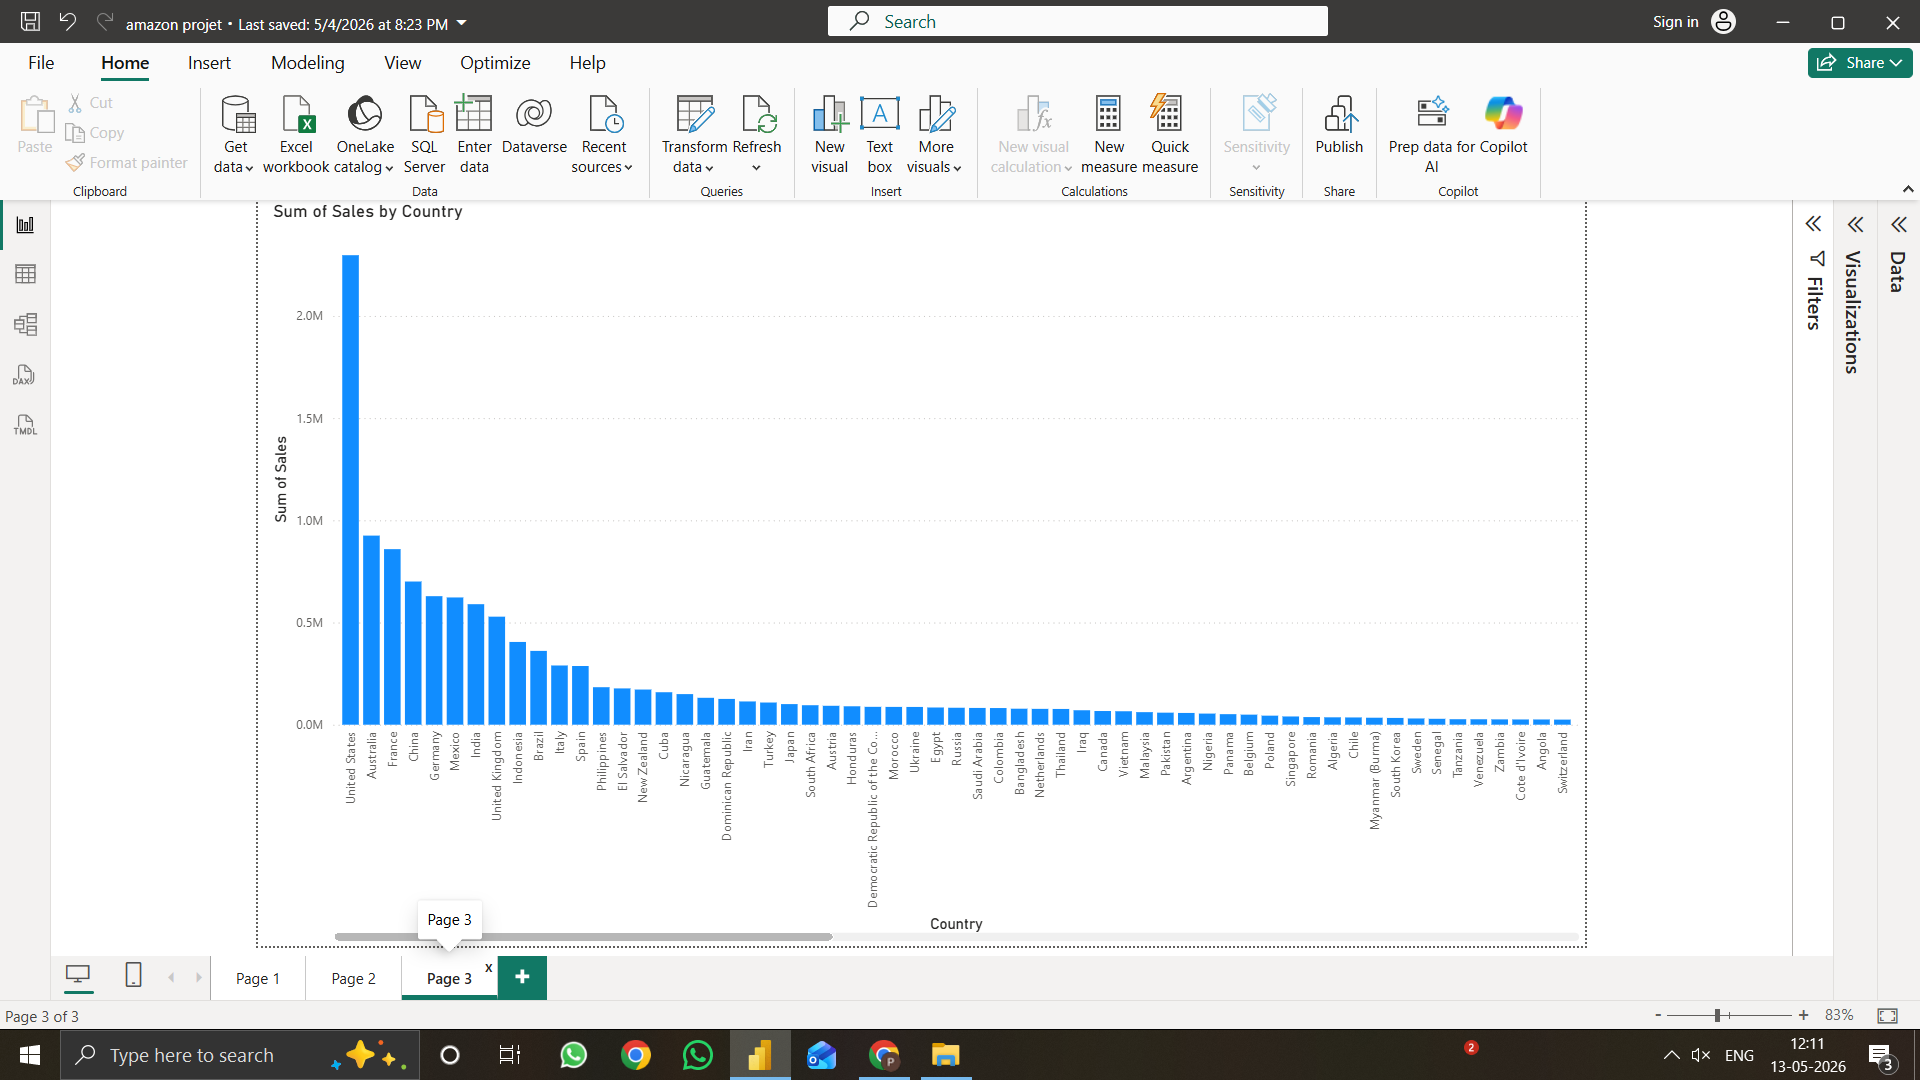

The page's visual inventory and layout, read from the dashboard file:
{"tool":"powerbi","page":{"name":"Page 3","canvas":[1280,720],"ordinal":2},"visuals":[{"type":"textbox","box":[9.6,0,279.9,46.7],"z":0},{"type":"columnChart","fields":{"Y":["Sum(Orders.Sales)"],"Category":["Orders.Country"]},"box":[9.6,0,1270.7,720.4],"z":1000}]}

Visuals, with their boxes on the page's 1280x720 design canvas (x1, y1, x2, y2). These are canvas units, not pixel positions in the 1920x1080 screenshot, which may show the page scaled, cropped or inside an application window:
textbox: (left=10, top=0, right=290, bottom=47)
columnChart - Sum(Orders.Sales) x Orders.Country: (left=10, top=0, right=1280, bottom=720)
